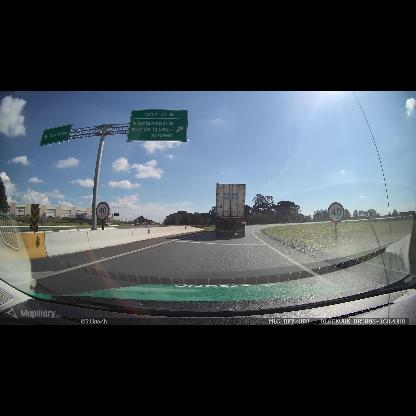O-MP: (30, 204, 40, 232)
R-19: (328, 202, 344, 223), (96, 202, 109, 220)
